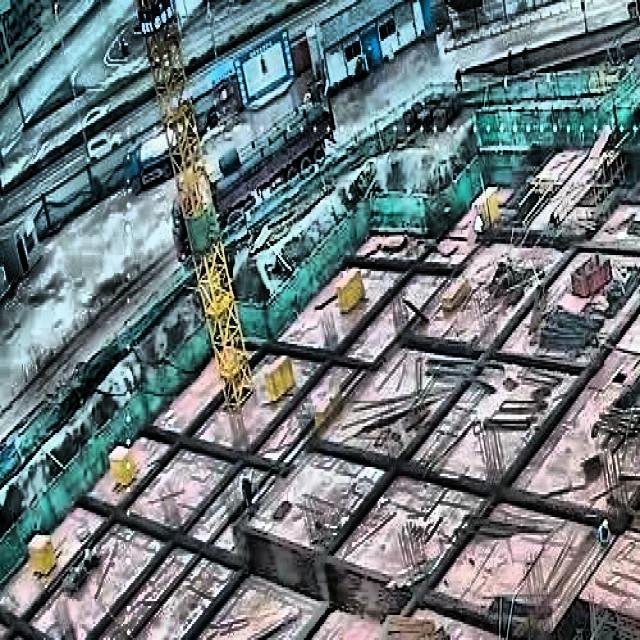dump_truck: (167, 75, 341, 273), (120, 120, 196, 200)
